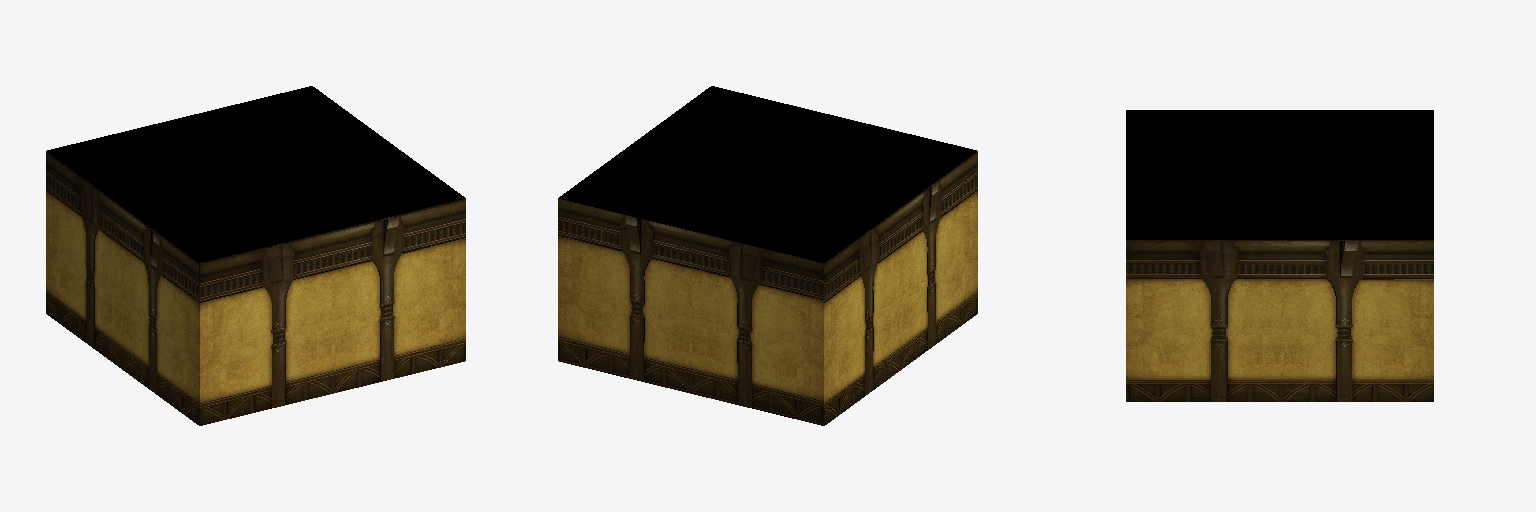
The picture shows the model from 3 angles: view 1: azimuth 30°, elevation 25°; view 2: azimuth 150°, elevation 25°; view 3: azimuth 270°, elevation 25°; orthographic projection.
Parts seen in each view (by area): view 1: pCube1, pPlane2; view 2: pPlane3, pPlane2, pCube1; view 3: pCube1, pPlane2.
Boxes of the visible parts, x1,y1,x2,y2 form: pCube1: [46, 151, 465, 425]; pPlane2: [47, 86, 465, 262]; pPlane3: [558, 199, 823, 425]; pPlane2: [558, 86, 976, 262]; pCube1: [824, 151, 977, 425]; pCube1: [1126, 240, 1433, 401]; pPlane2: [1126, 110, 1433, 239].
Bounding box in the file's own units: 48 × 28 × 48.
2 materials, 1 textured.